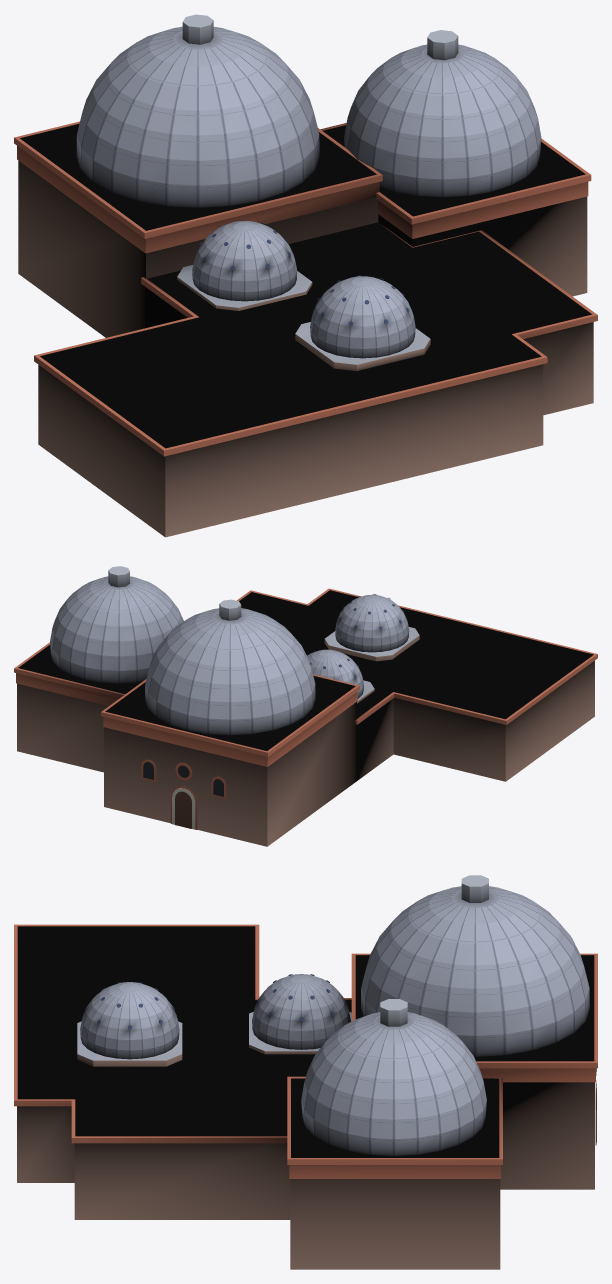
Rendered from orhan-bey-hamami_v02.glb.
The picture shows the model from 3 angles, top to bottom: view 1: azimuth 30°, elevation 25°; view 2: azimuth 150°, elevation 25°; view 3: azimuth 270°, elevation 25°; orthographic projection. The views are drawn at different scales.
Parts seen in each view (by area): view 1: Hamam_Sicaklik, Hamam_Sogukluk_Erkek, Hamam_Sogukluk_Kadin, Sacak, Kubbe_Sicaklik, Kubbe_Iliklik; view 2: Hamam_Sogukluk_Erkek, Hamam_Sicaklik, Hamam_Sogukluk_Kadin, Sacak, Kubbe_Sicaklik, Hamam_Giris, Kubbe_Iliklik; view 3: Hamam_Sicaklik, Hamam_Sogukluk_Kadin, Hamam_Sogukluk_Erkek, Sacak, Kubbe_Sicaklik, Kubbe_Iliklik.
Part boxes in pixels (x1=…): Hamam_Sicaklik: x1=38, y1=222, x2=593, y2=537; Hamam_Sogukluk_Erkek: x1=18, y1=14, x2=378, y2=337; Hamam_Sogukluk_Kadin: x1=323, y1=30, x2=587, y2=296; Sacak: x1=14, y1=121, x2=597, y2=456; Kubbe_Sicaklik: x1=295, y1=276, x2=430, y2=370; Kubbe_Iliklik: x1=177, y1=221, x2=312, y2=310; Hamam_Sogukluk_Erkek: x1=104, y1=599, x2=356, y2=846; Hamam_Sicaklik: x1=239, y1=590, x2=594, y2=781; Hamam_Sogukluk_Kadin: x1=17, y1=566, x2=183, y2=772; Sacak: x1=14, y1=588, x2=597, y2=766; Kubbe_Sicaklik: x1=324, y1=594, x2=419, y2=661; Hamam_Giris: x1=141, y1=759, x2=226, y2=829; Kubbe_Iliklik: x1=307, y1=649, x2=374, y2=703; Hamam_Sicaklik: x1=17, y1=926, x2=351, y2=1219; Hamam_Sogukluk_Kadin: x1=290, y1=999, x2=500, y2=1269; Hamam_Sogukluk_Erkek: x1=355, y1=875, x2=594, y2=1189; Sacak: x1=14, y1=924, x2=597, y2=1178; Kubbe_Sicaklik: x1=77, y1=982, x2=182, y2=1066; Kubbe_Iliklik: x1=249, y1=974, x2=351, y2=1054.
Bounding box in the file's own units: 38.03 × 17.2 × 35.69.
8 materials, 1 textured.
